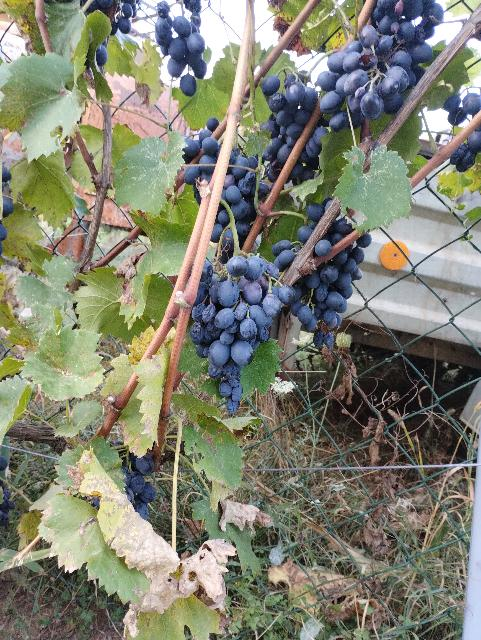grapes: (190, 255, 282, 414), (291, 232, 371, 348), (260, 74, 319, 182), (298, 199, 355, 258), (290, 124, 329, 185)
